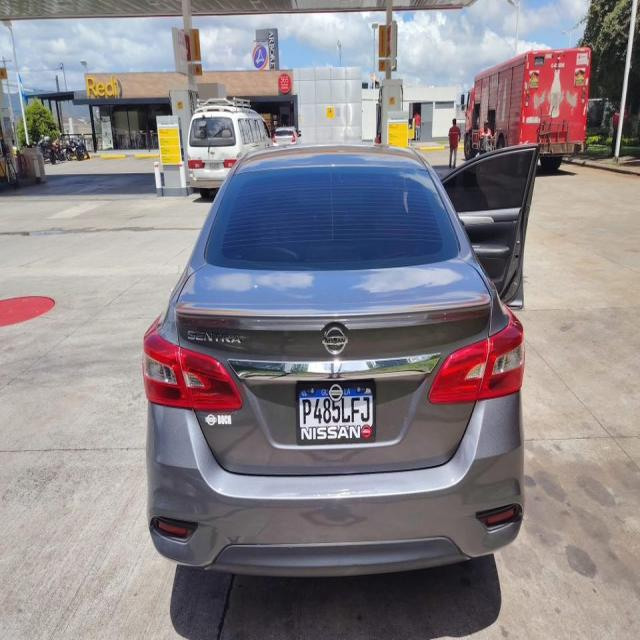Placas: (296, 379, 378, 443)
